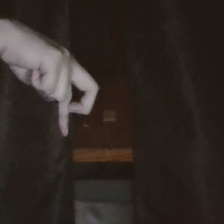P: (1, 7, 108, 144)
